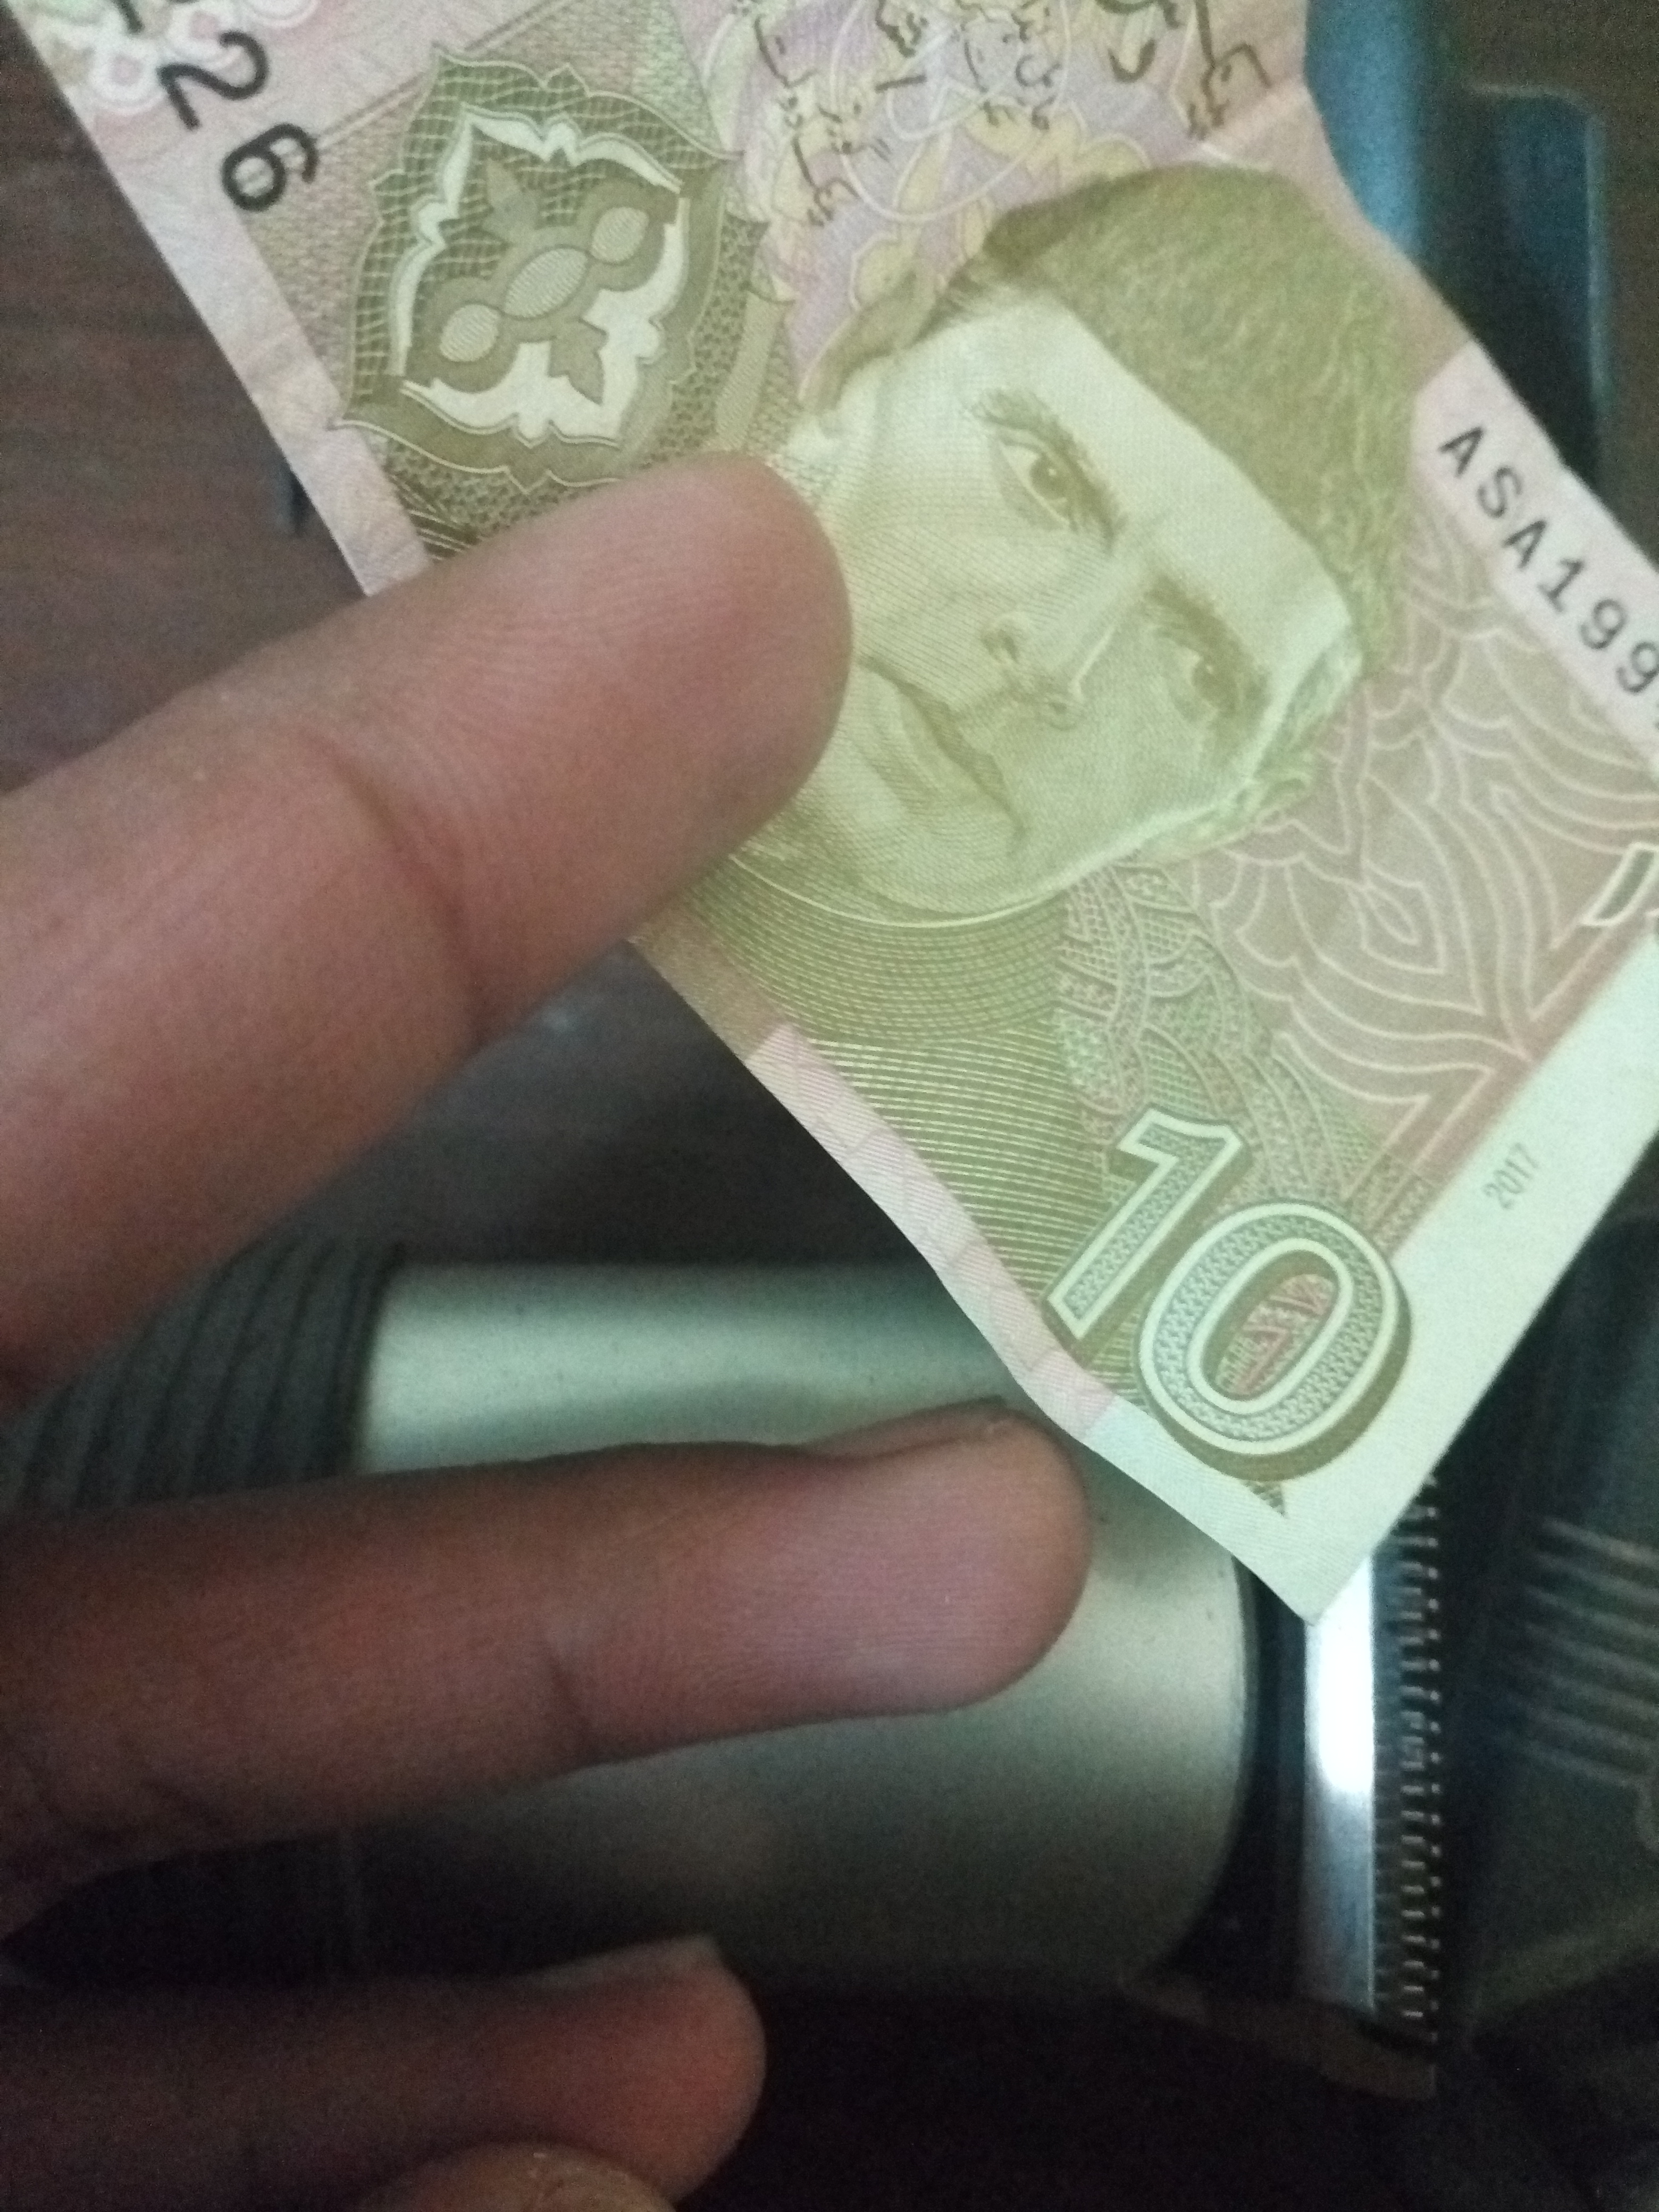10 rupee: (30, 14, 1657, 1543)
